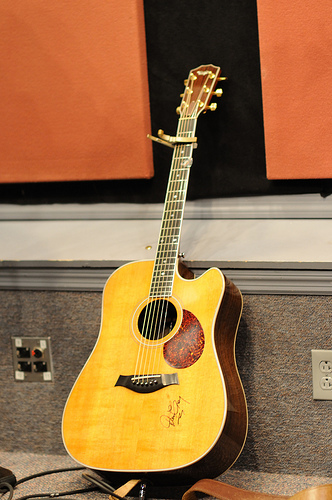guitar: (58, 61, 252, 480)
